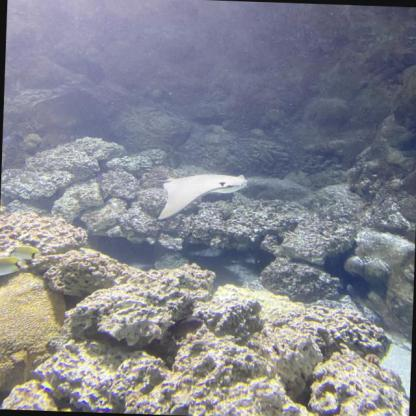fish: (4, 242, 42, 263), (0, 256, 28, 278)
stingray: (160, 172, 248, 221)
